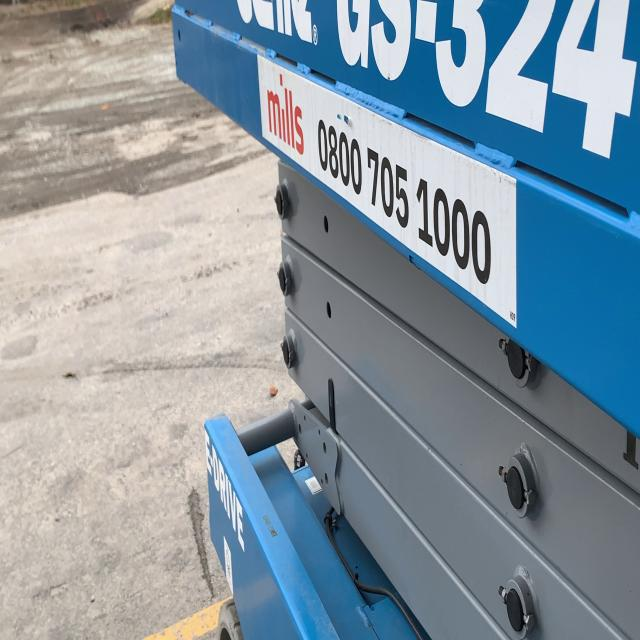Adesivo Longo: (254, 52, 521, 335)
